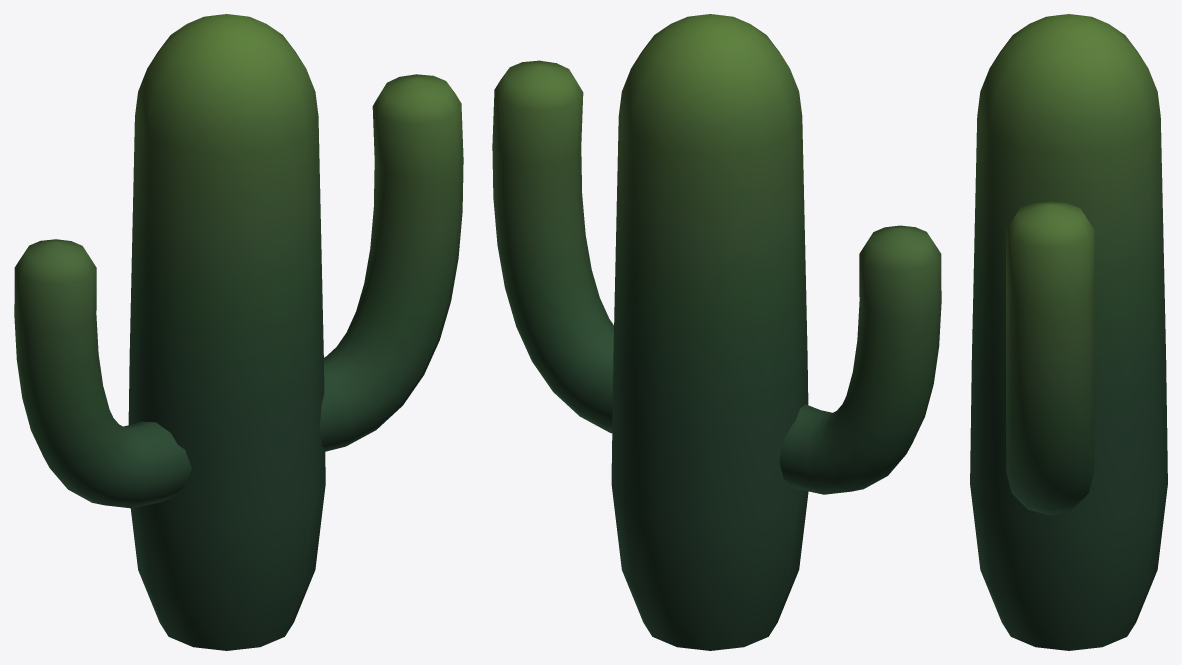
The model's file is Cactus.fbx.
3 views of the same model, side by side, from view 1: azimuth 30°, elevation 25°; view 2: azimuth 150°, elevation 25°; view 3: azimuth 270°, elevation 25° (orthographic).
Parts seen in each view (by area): view 1: Cactus; view 2: Cactus; view 3: Cactus.
Boxes of the visible parts, x1,y1,x2,y2 form: Cactus: (14, 14, 463, 650); Cactus: (492, 14, 941, 650); Cactus: (970, 14, 1167, 650).
Size of the model in its own units: 0.1848 by 0.2428 by 0.0724.
